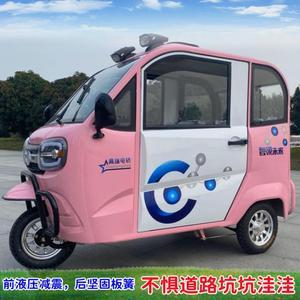empty: (4, 31, 297, 267)
